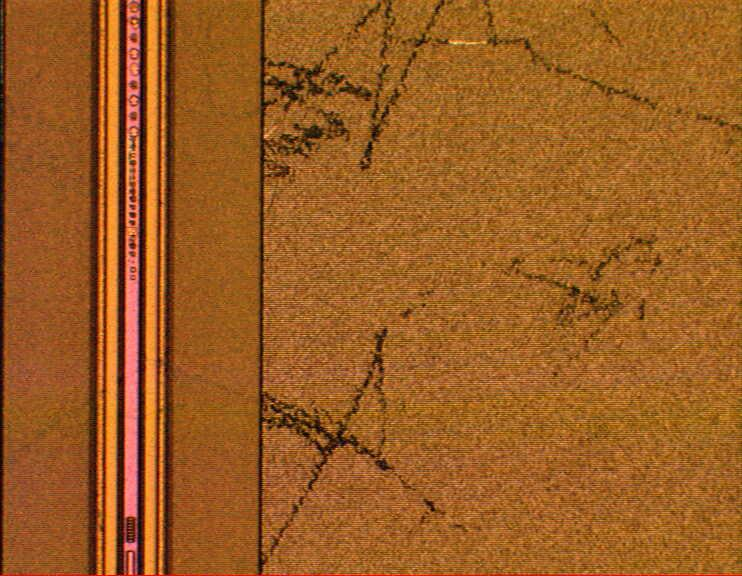SCRATCH: (4, 1, 742, 576)
